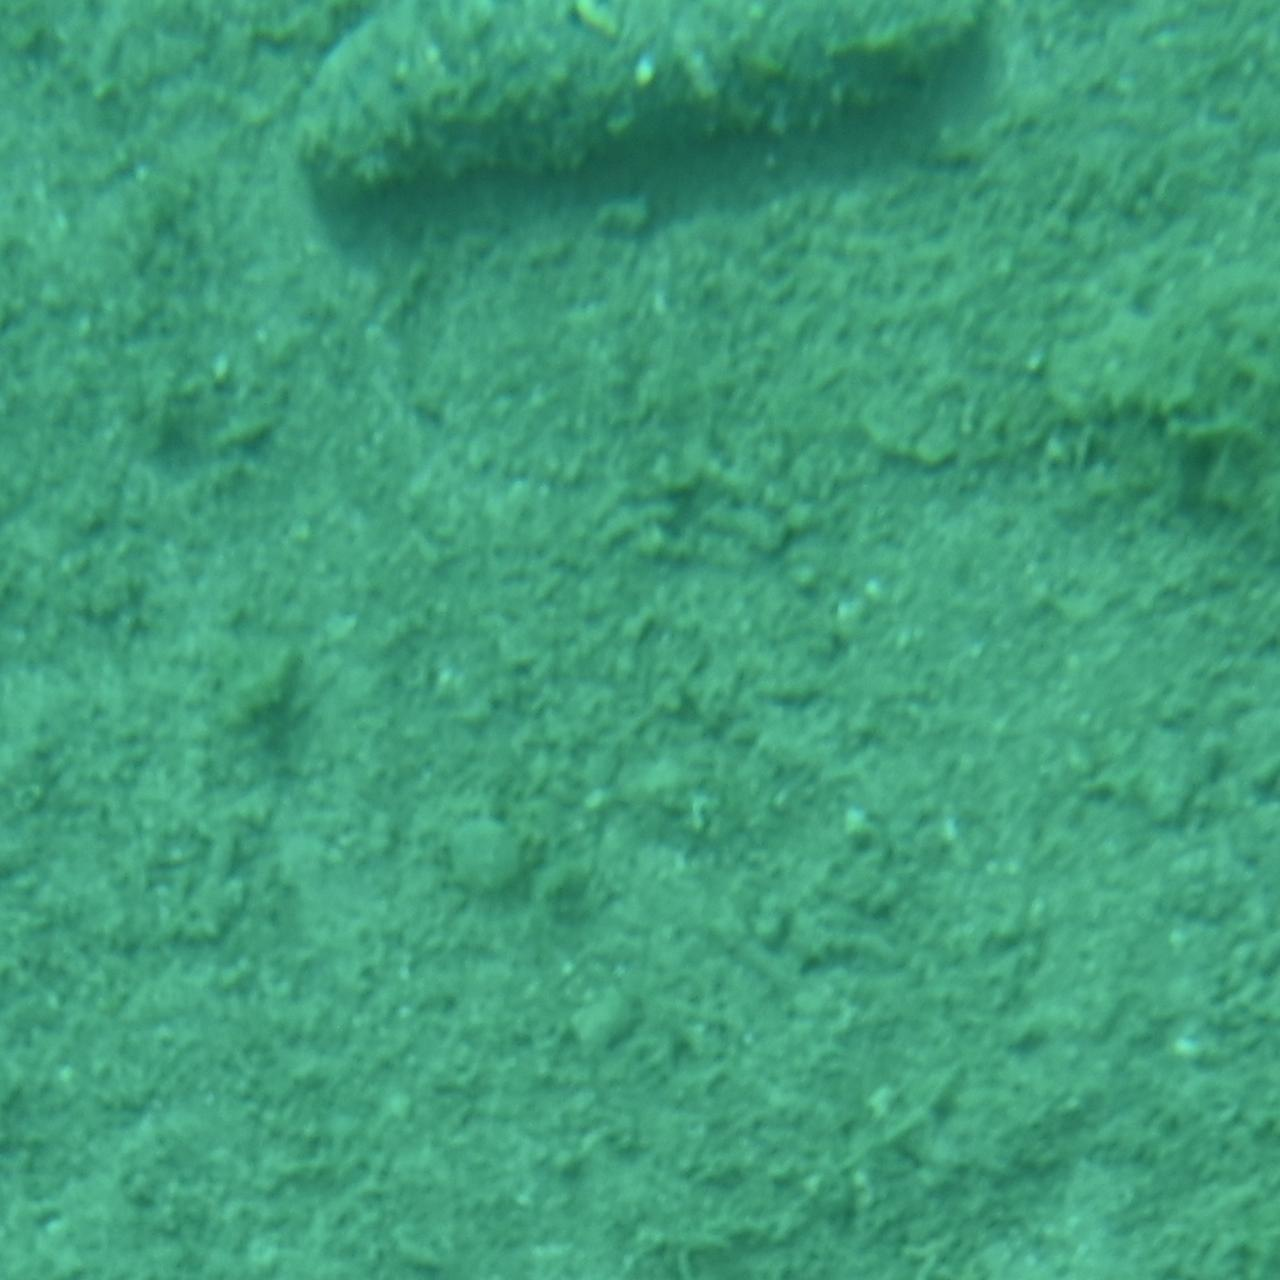Holothuria tubulosa: (281, 0, 999, 226)
